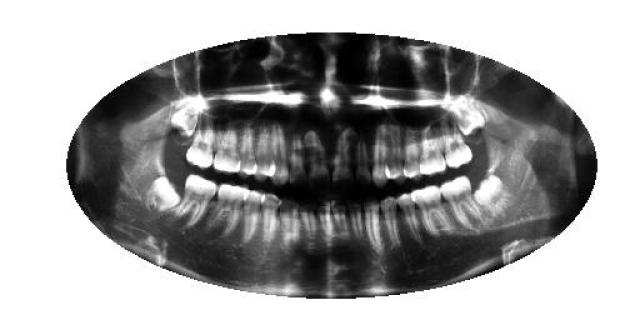Restorations: (471, 174, 515, 220), (144, 175, 184, 215)
